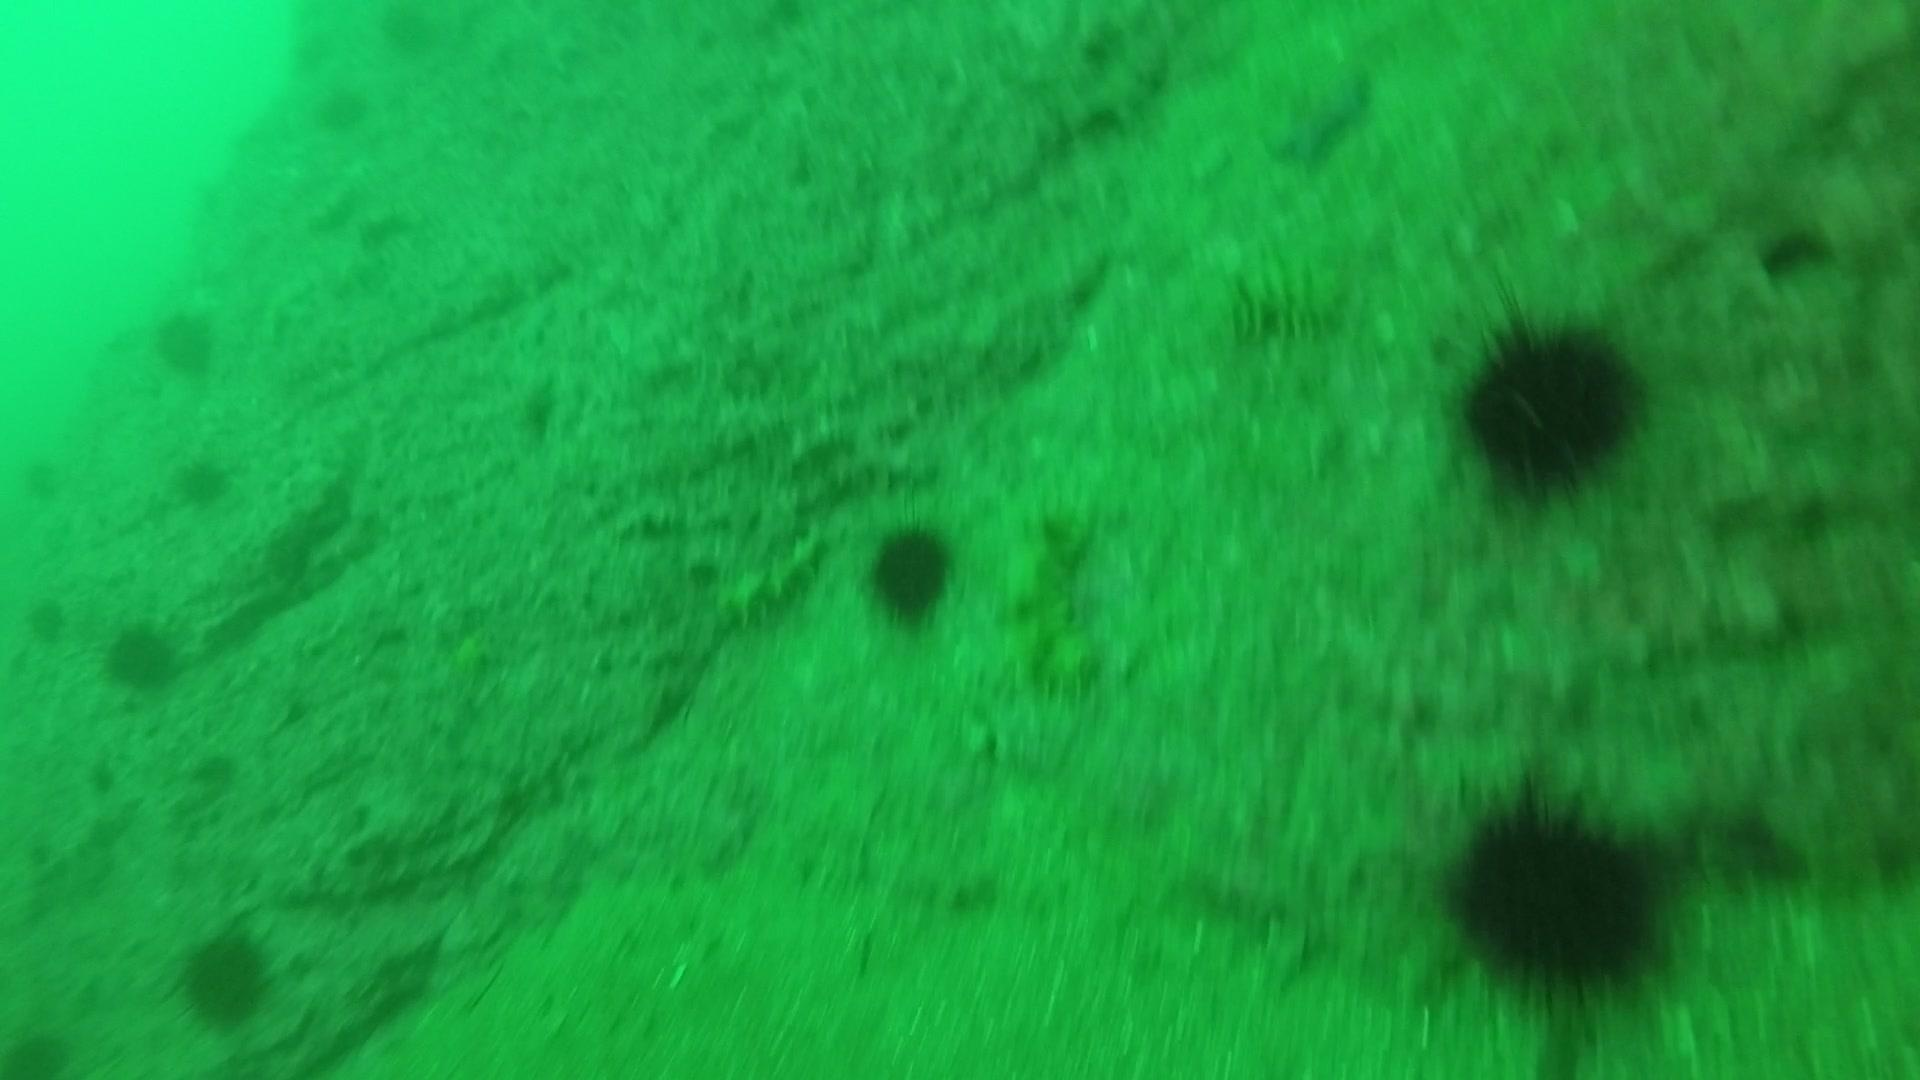echinus: (1433, 778, 1677, 1007), (1445, 305, 1652, 498), (171, 922, 280, 1033), (858, 516, 963, 630), (98, 615, 189, 696), (146, 301, 223, 380), (264, 18, 340, 87), (371, 3, 446, 70), (167, 450, 237, 512), (15, 585, 84, 647), (7, 450, 76, 512), (309, 78, 375, 137)
holothurian: (989, 504, 1110, 705), (802, 819, 993, 910), (698, 526, 844, 632), (1213, 258, 1356, 351)
starfish: (1258, 61, 1379, 171)
